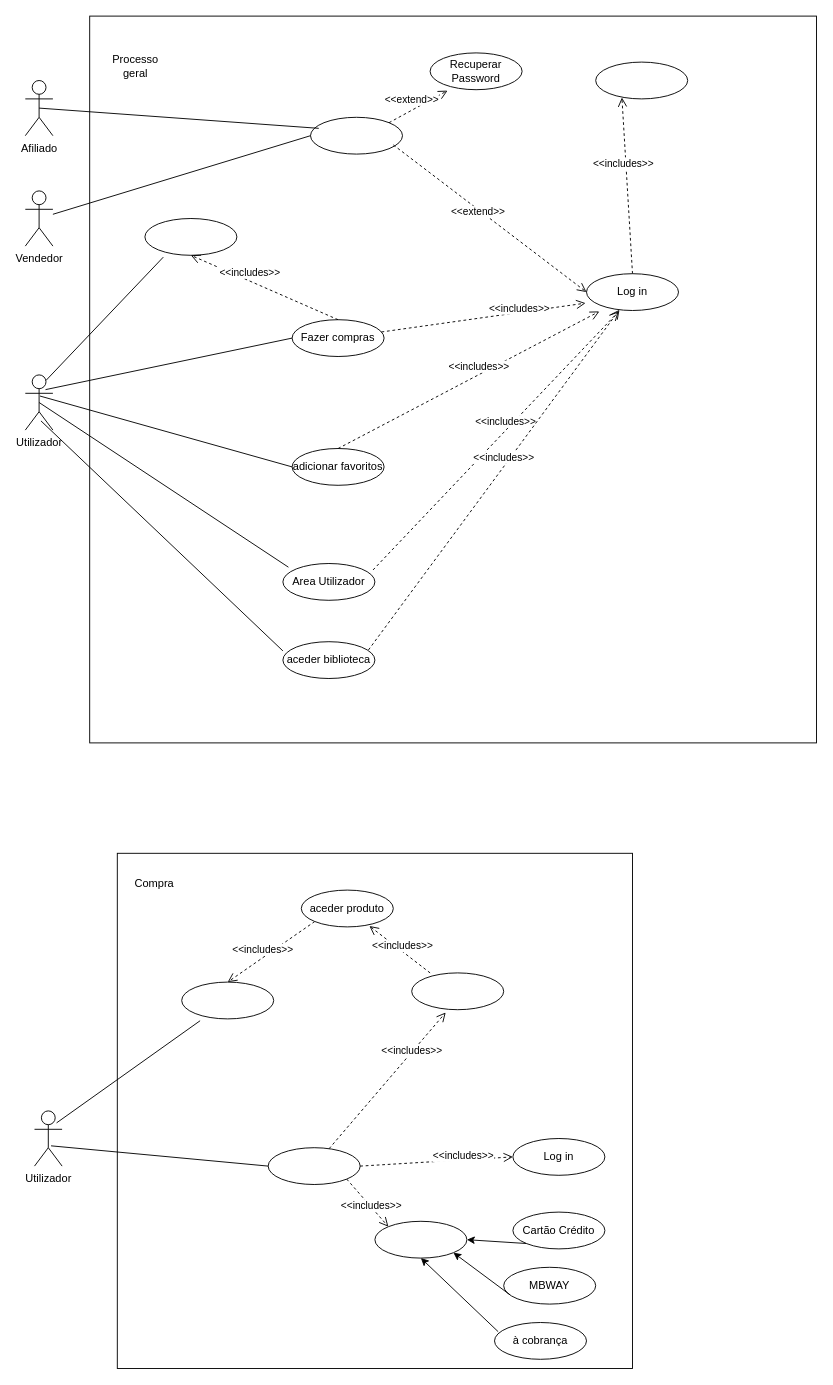
Image size: 833x1385. Some labels were removed from this diagram. Here are the shapes that lost their labels. From the top down, the centre of each, then its label:
(x=641, y=80): Log Out
(x=356, y=135): Registo
(x=190, y=236): fazer pesquisa
(x=227, y=1000): pesquisa
(x=457, y=991): gerir carrinho
(x=313, y=1165): checkout
(x=420, y=1239): pagamento
